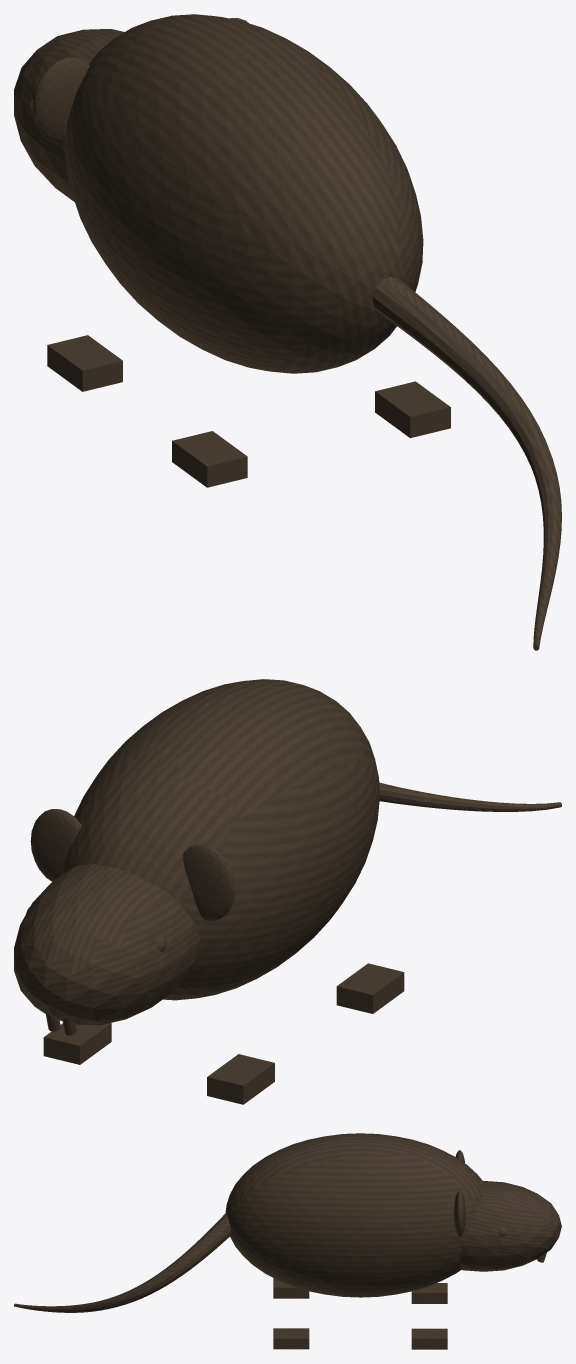
Rendered from rat_pbr_review.glb.
The picture shows the model from 3 angles, top to bottom: view 1: azimuth 30°, elevation 25°; view 2: azimuth 150°, elevation 25°; view 3: azimuth 270°, elevation 25°; orthographic projection. The views are drawn at different scales.
Parts seen in each view (by area): view 1: world, world.002, head_cranium, ear_-1, paw_FL, paw_HL, paw_HR; view 2: world, head_cranium, ear_-1, paw_HL, ear_1, paw_FL, world.002, paw_FR; view 3: world, head_cranium, world.002, paw_FR, paw_HR, paw_FL, paw_HL, ear_1.
Part boxes in pixels (x1,y1,x2,y2): world: (64, 14, 423, 373); world.002: (372, 276, 561, 650); head_cranium: (14, 29, 124, 201); ear_-1: (32, 57, 89, 143); paw_FL: (47, 335, 122, 391); paw_HL: (172, 431, 247, 487); paw_HR: (375, 381, 450, 438); world: (60, 679, 379, 1000); head_cranium: (14, 863, 200, 1025); ear_-1: (183, 844, 235, 921); paw_HL: (336, 963, 404, 1013); ear_1: (30, 809, 81, 881); paw_FL: (207, 1054, 274, 1104); world.002: (379, 782, 561, 811); paw_FR: (43, 1023, 111, 1064); world: (225, 1133, 484, 1297); head_cranium: (459, 1181, 561, 1271); world.002: (14, 1213, 231, 1312); paw_FR: (411, 1328, 447, 1349); paw_HR: (273, 1328, 309, 1349); paw_FL: (411, 1283, 447, 1303); paw_HL: (273, 1278, 309, 1298); ear_1: (453, 1191, 465, 1236).
Size of the model in its own units: 0.48 by 0.67 by 1.82.
1 material, 1 textured.
